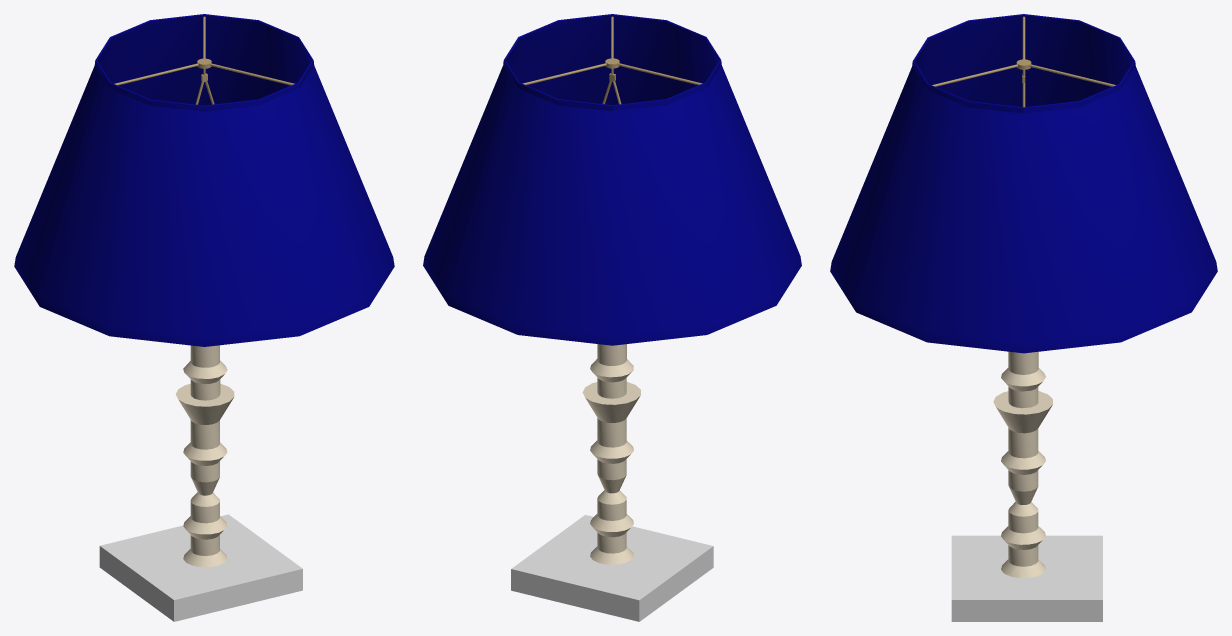
Rendered from deskLamp1.glb.
3 renders of one model, left to right at view 1: azimuth 30°, elevation 25°; view 2: azimuth 150°, elevation 25°; view 3: azimuth 270°, elevation 25°, orthographic. The views are drawn at different scales.
Visible parts, largest first — view 1: deskLamp1; view 2: deskLamp1; view 3: deskLamp1.
Part boxes in pixels (left/top/right/bottom): deskLamp1: left=14, top=14, right=394, bottom=621; deskLamp1: left=423, top=14, right=801, bottom=621; deskLamp1: left=830, top=14, right=1217, bottom=621.
Size of the model in its own units: 0.406 by 0.6124 by 0.406.
